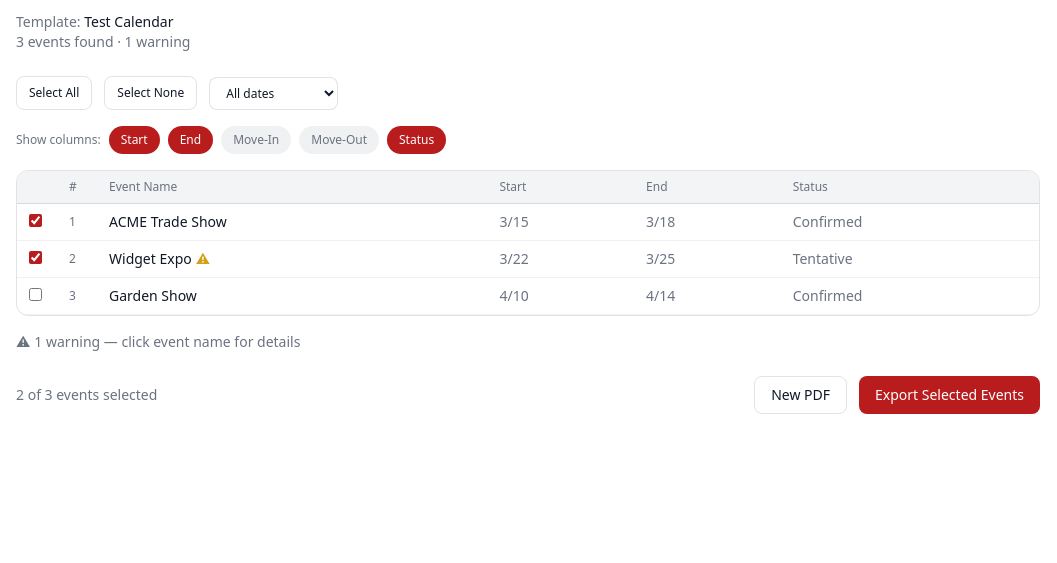
it: ResultsPage › shows raw text in expanded detail
Click the button "ACME Trade Show": (168, 222) [109, 212, 227, 232]
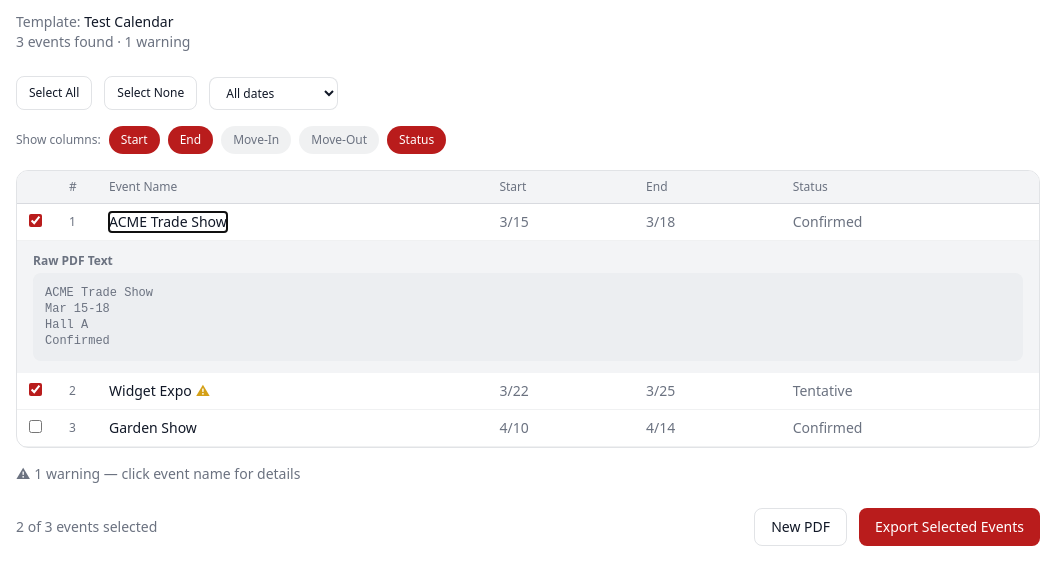
Result: the text "ACME Trade Show Mar 15-18 Hall A Confirmed" is shown at [33, 273, 1023, 361]
